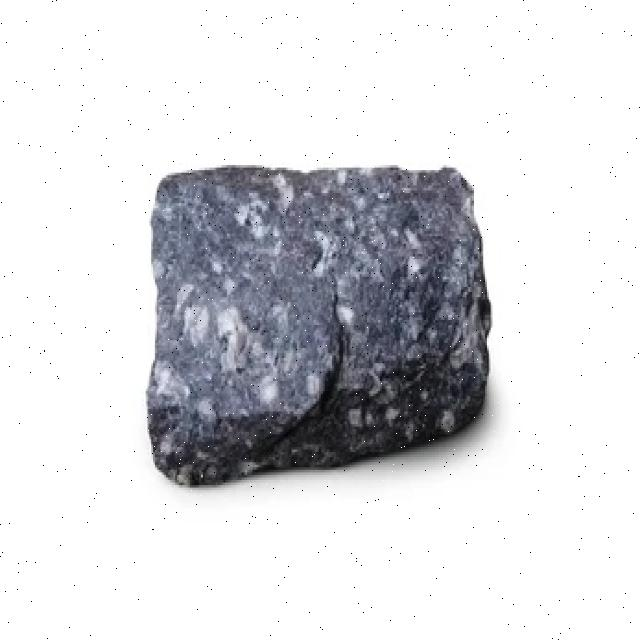Sedimentary: (140, 137, 518, 480)
